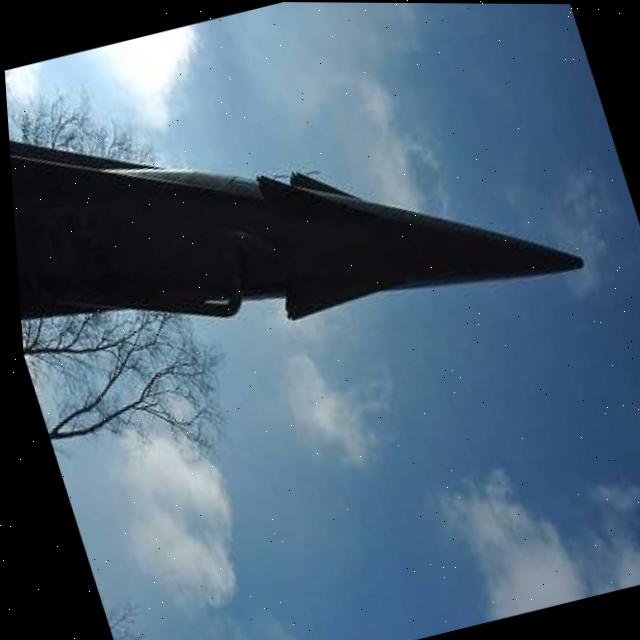missile: (0, 0, 597, 414)
